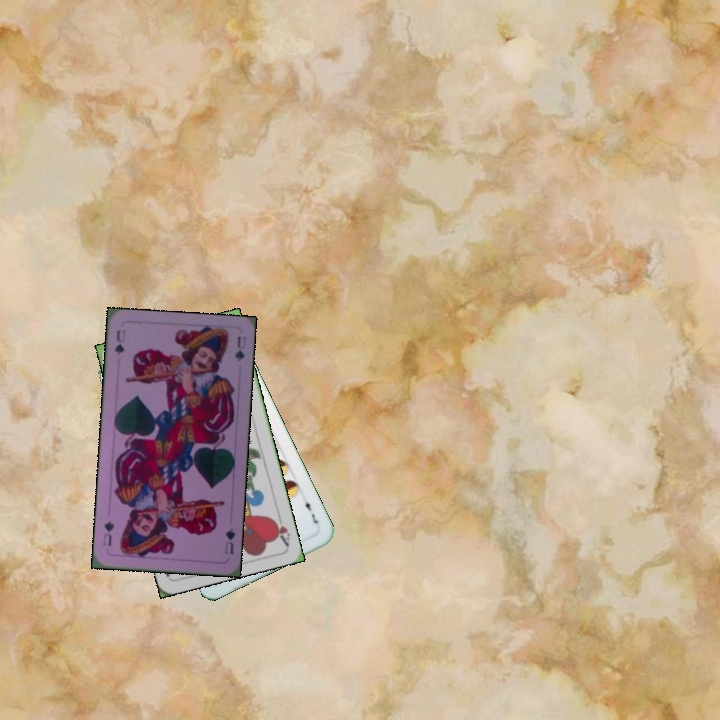E7: (301, 493, 320, 527)
GU: (221, 524, 238, 557), (111, 326, 128, 357)
HA: (268, 508, 293, 548)
